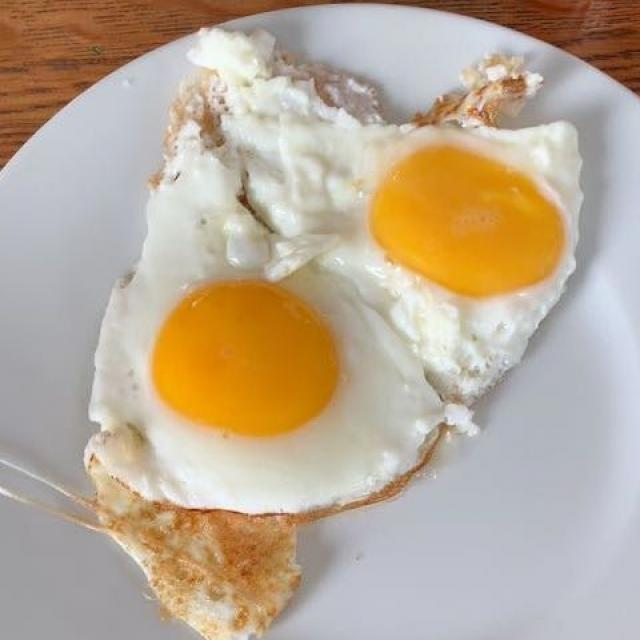egg: (93, 45, 557, 562)
